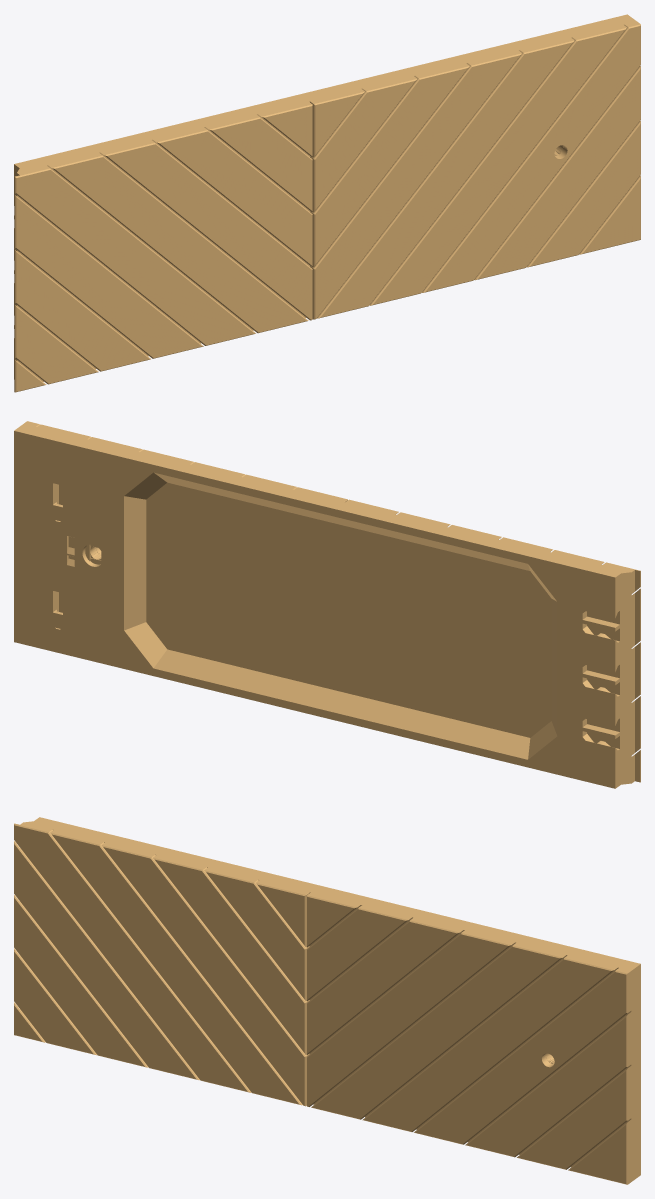
The model's file is Door_Chevron_2W-1H.lib.glb.
3 renders of one model, top to bottom at view 1: azimuth 30°, elevation 25°; view 2: azimuth 150°, elevation 25°; view 3: azimuth 330°, elevation 25°, orthographic.
Visible parts, largest first — view 1: Door_Chevron_2W-1H; view 2: Door_Chevron_2W-1H; view 3: Door_Chevron_2W-1H.
Boxes of the visible parts, bbox=[...] form: Door_Chevron_2W-1H: bbox=[14, 14, 640, 392]; Door_Chevron_2W-1H: bbox=[14, 421, 640, 788]; Door_Chevron_2W-1H: bbox=[14, 817, 640, 1184].
Bounding box in the file's own units: 167 × 55 × 6.51.
